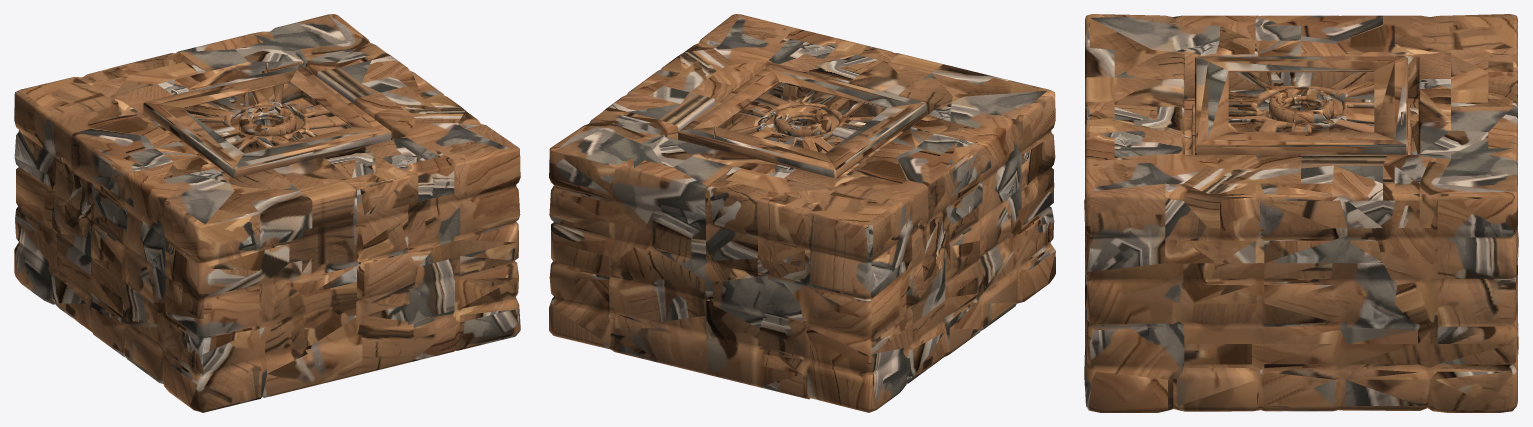
Rendered from stove.fbx.
3 renders of one model, left to right at view 1: azimuth 30°, elevation 25°; view 2: azimuth 150°, elevation 25°; view 3: azimuth 270°, elevation 25°, orthographic. The views are drawn at different scales.
Visible parts, largest first — view 1: stove; view 2: stove; view 3: stove.
Part boxes in pixels (box(x1,y1,x2,y2)): stove: box(14, 14, 520, 412); stove: box(549, 14, 1055, 412); stove: box(1084, 14, 1518, 412).
Size of the model in its own units: 190 by 114 by 191.
